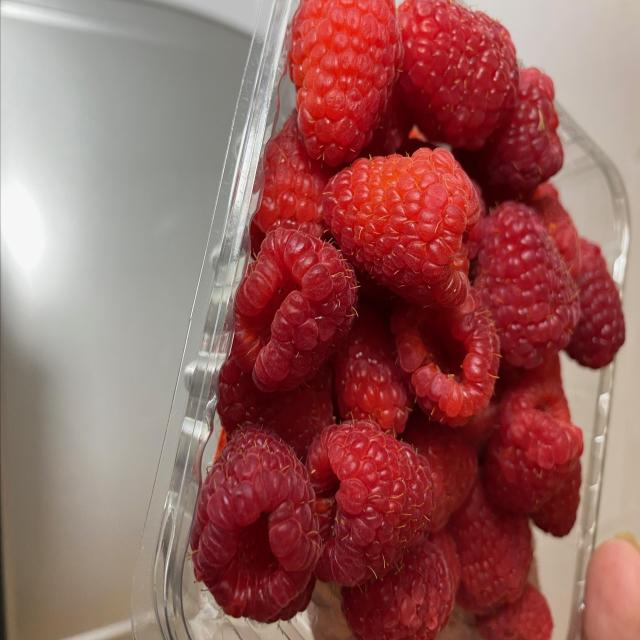raspberries: (314, 7, 570, 627)
